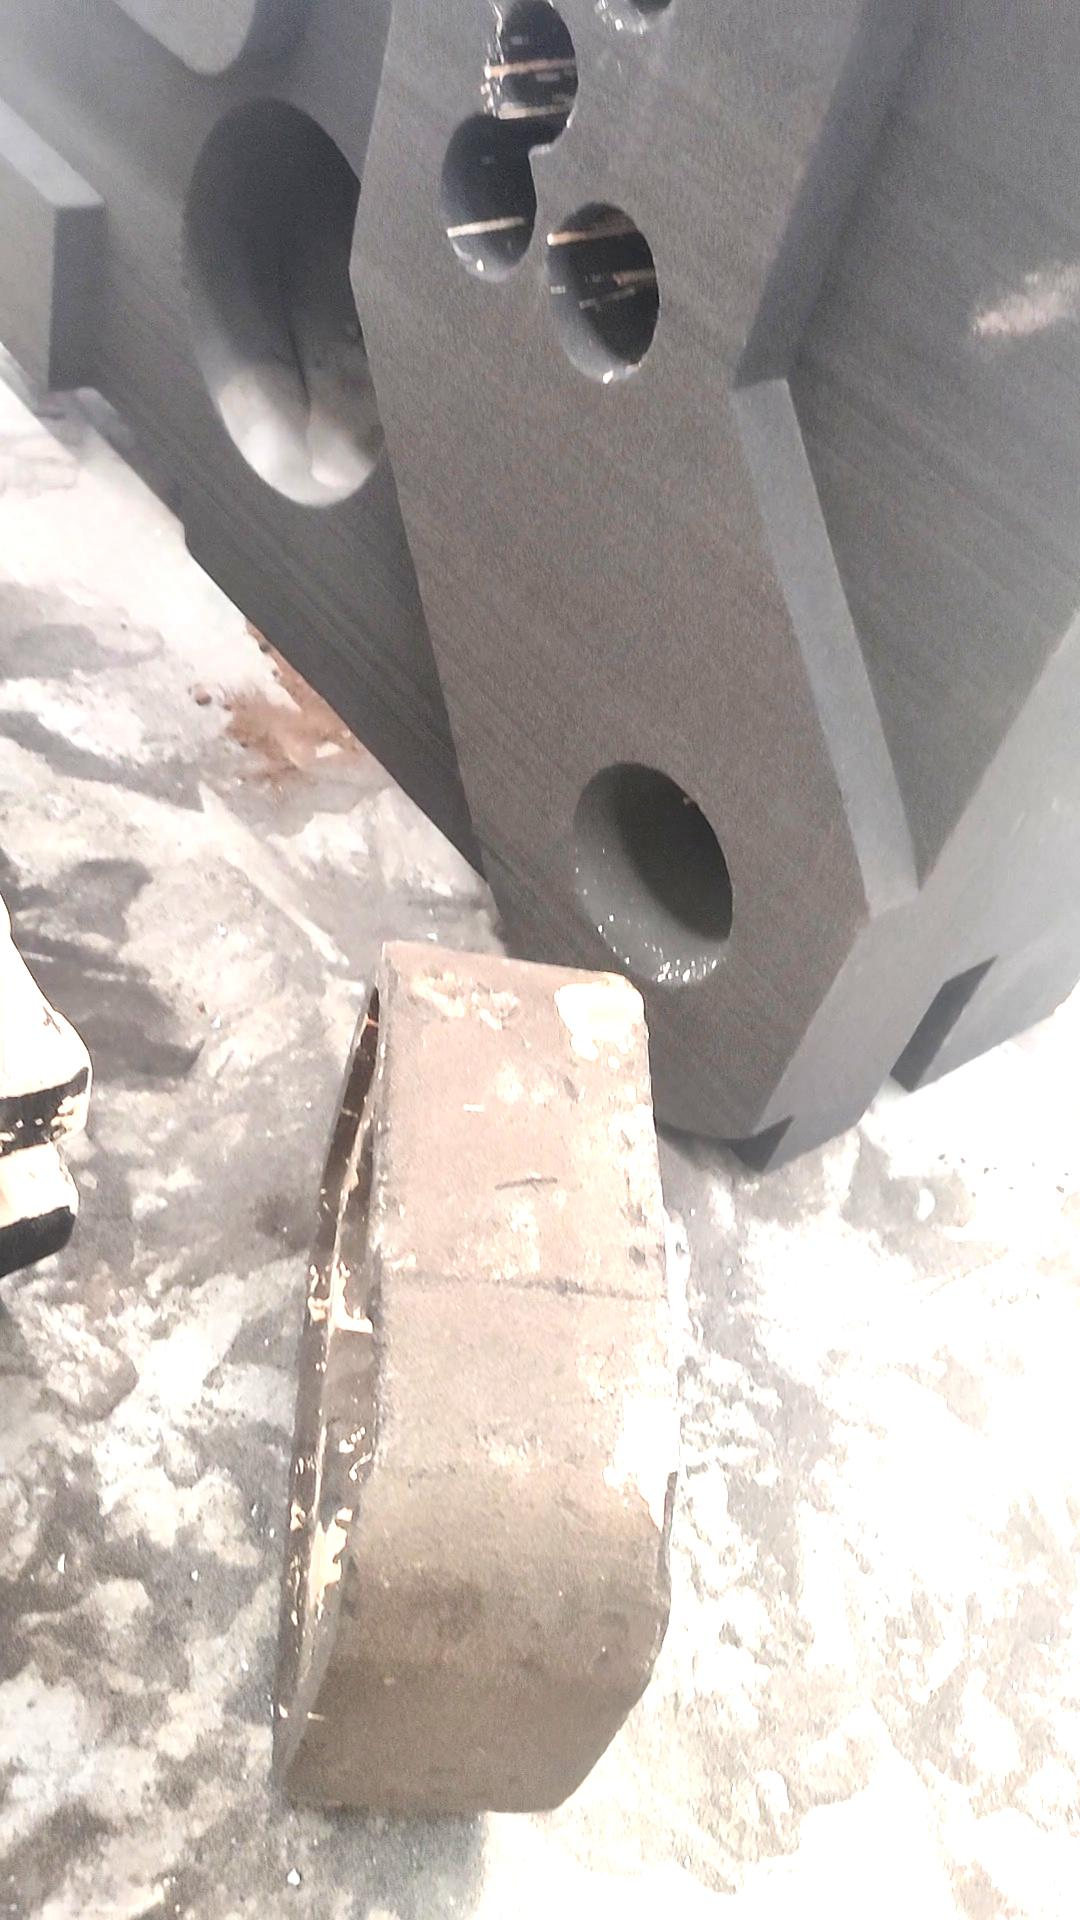pouring hole: (570, 761, 736, 992)
